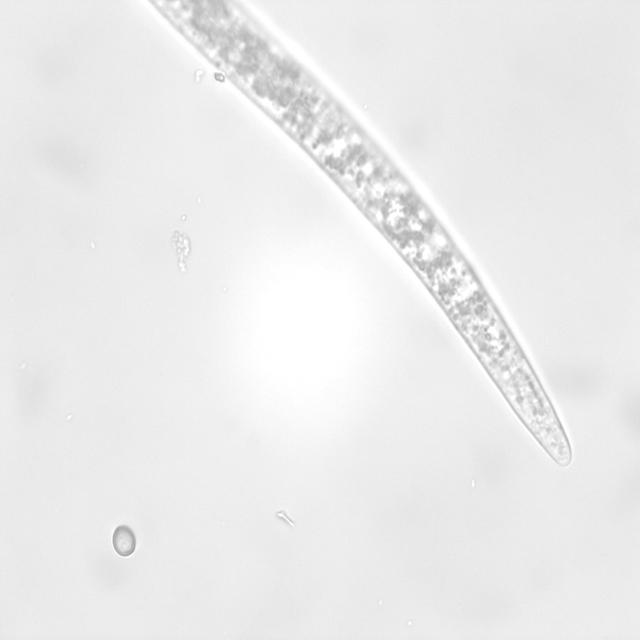Pratylenchus: (308, 141, 576, 474)
